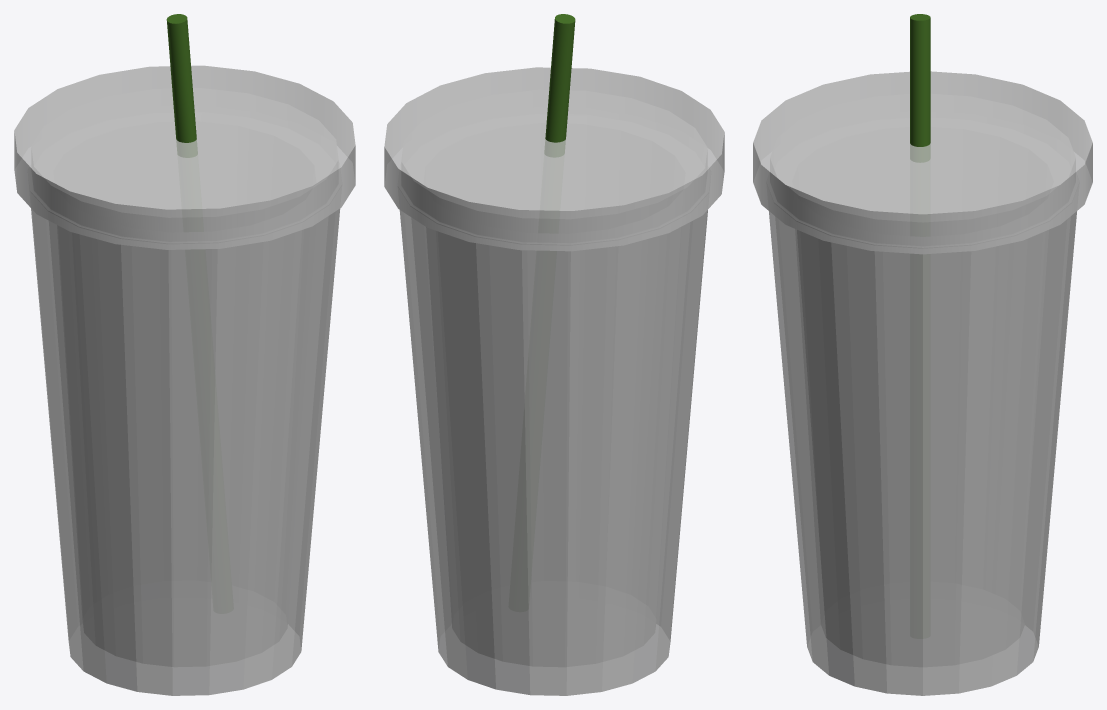
The model's file is cold_cup.fbx.
The picture shows the model from 3 angles, left to right: view 1: azimuth 30°, elevation 25°; view 2: azimuth 150°, elevation 25°; view 3: azimuth 270°, elevation 25°; orthographic projection.
Visible parts, largest first — view 1: pasted__pasted__pCylinder2, group_pasted__group_pasted__pasted__pCylinder1, pasted__pasted__pCylinder3; view 2: pasted__pasted__pCylinder2, group_pasted__group_pasted__pasted__pCylinder1, pasted__pasted__pCylinder3; view 3: pasted__pasted__pCylinder2, group_pasted__group_pasted__pasted__pCylinder1, pasted__pasted__pCylinder3.
Boxes of the visible parts, <box> form: pasted__pasted__pCylinder2: <box>28,163,341,695</box>; group_pasted__group_pasted__pasted__pCylinder1: <box>14,65,355,249</box>; pasted__pasted__pCylinder3: <box>166,14,197,157</box>; pasted__pasted__pCylinder2: <box>398,164,710,695</box>; group_pasted__group_pasted__pasted__pCylinder1: <box>384,67,724,251</box>; pasted__pasted__pCylinder3: <box>544,14,575,157</box>; pasted__pasted__pCylinder2: <box>767,173,1078,695</box>; group_pasted__group_pasted__pasted__pCylinder1: <box>753,71,1092,254</box>; pasted__pasted__pCylinder3: <box>910,14,930,162</box>.
Bounding box in the file's own units: 2.45 × 4.98 × 2.45.
